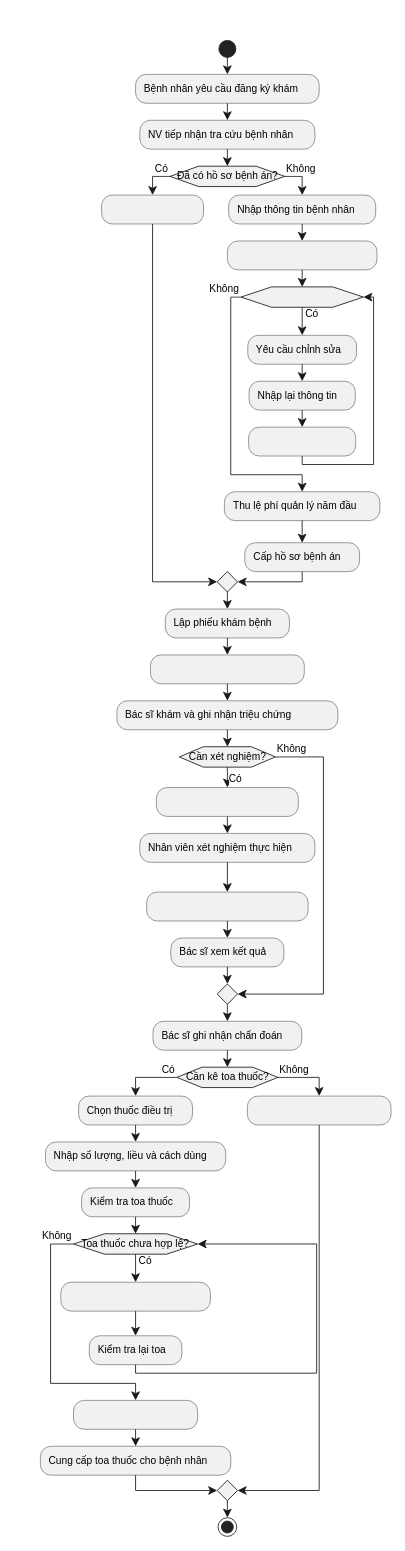
This 405x1551 diagram has some shape labels left out. The centre of each missing label's shape, as x and y in pixels:
Bác sĩ xem lịch sử bệnh án: point (227, 669)
Ghi nhận kết quả xét nghiệm: point (227, 906)
Kiểm tra thông tin: point (302, 441)
Kiểm tra thông tin đăng ký: point (302, 255)
Lưu toa và chi tiết toa: point (135, 1414)
Lấy hồ sơ hiện có: point (152, 209)
Lập chỉ định xét nghiệm: point (227, 801)
Thông báo kết luận khám: point (319, 1110)
Thông tin chưa hợp lệ?: point (301, 296)
Điều chỉnh thông tin thuốc: point (135, 1296)
